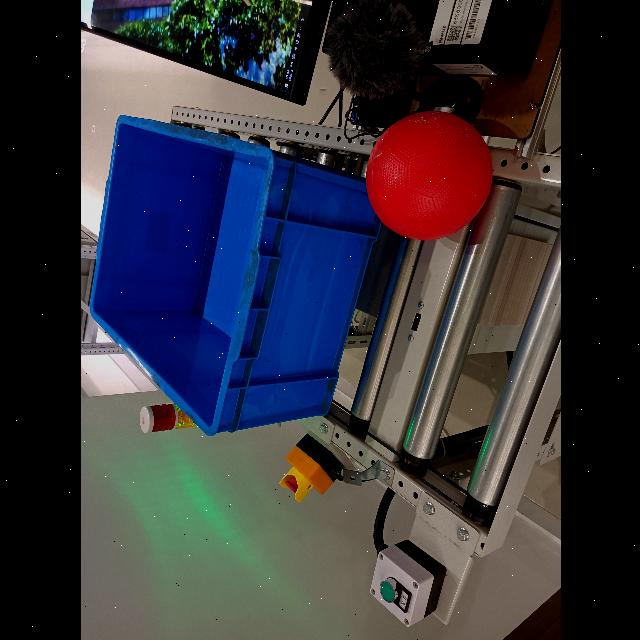R: (361, 110, 494, 242)
